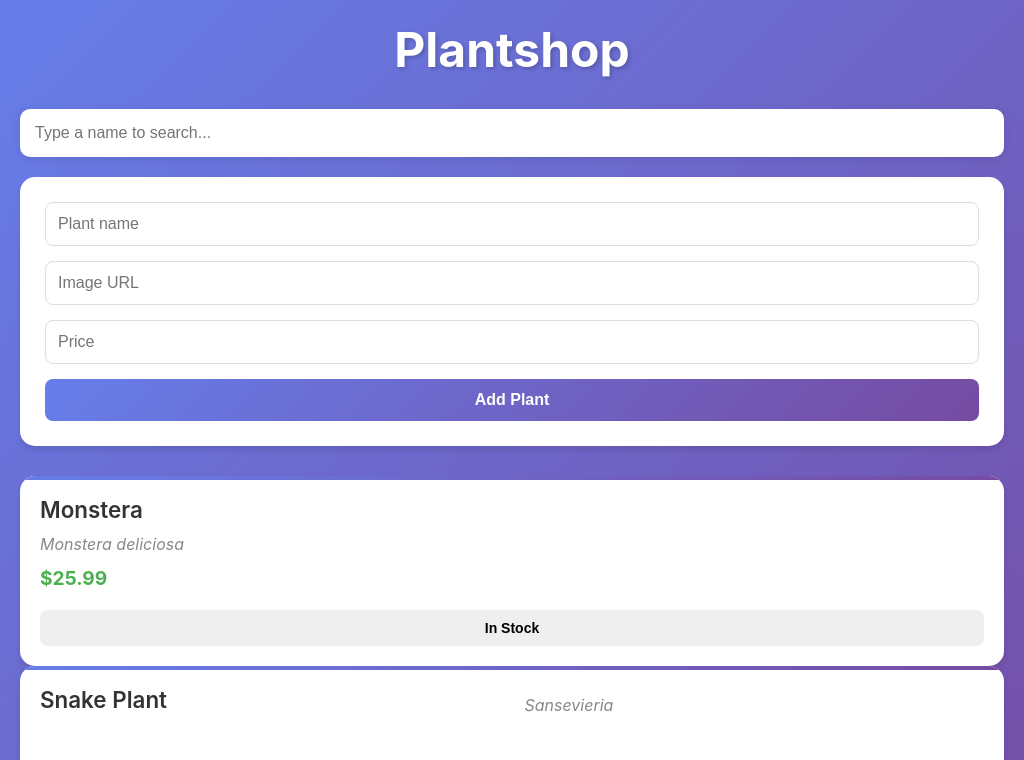
it: App › searches for plants
Expected: the heading "Monstera" is shown, [40,496,143,523]
Type "Monstera" into the field with test id "search-input" at (512, 133), box [20,109,1004,157]
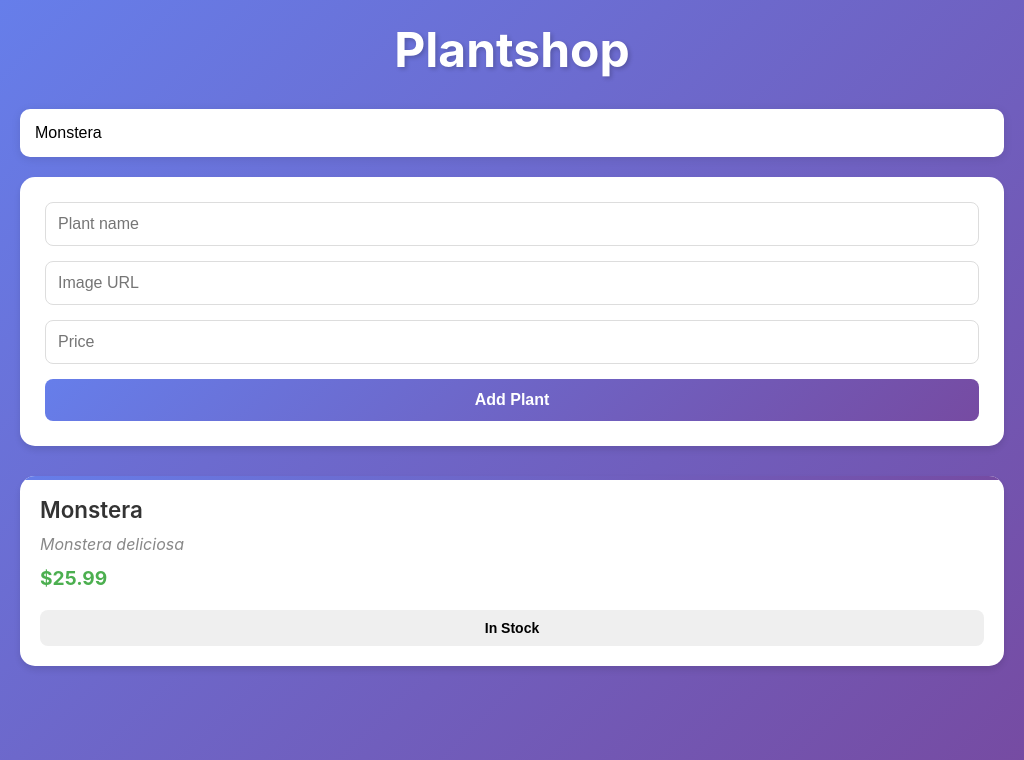
Expected: the heading "Monstera" is shown, [40,496,143,523]
Result: the heading "Snake Plant" is gone
